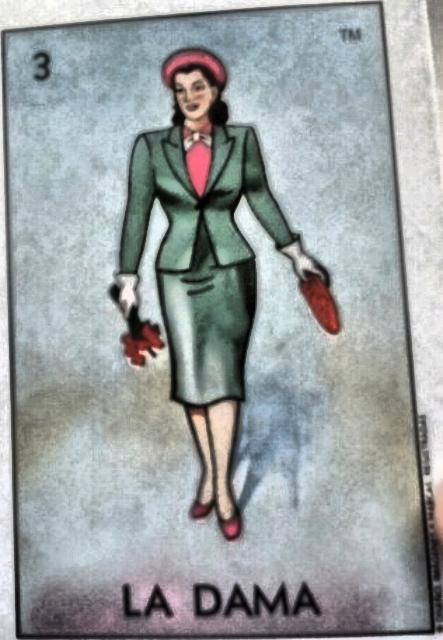La Dama: (3, 2, 435, 635)
